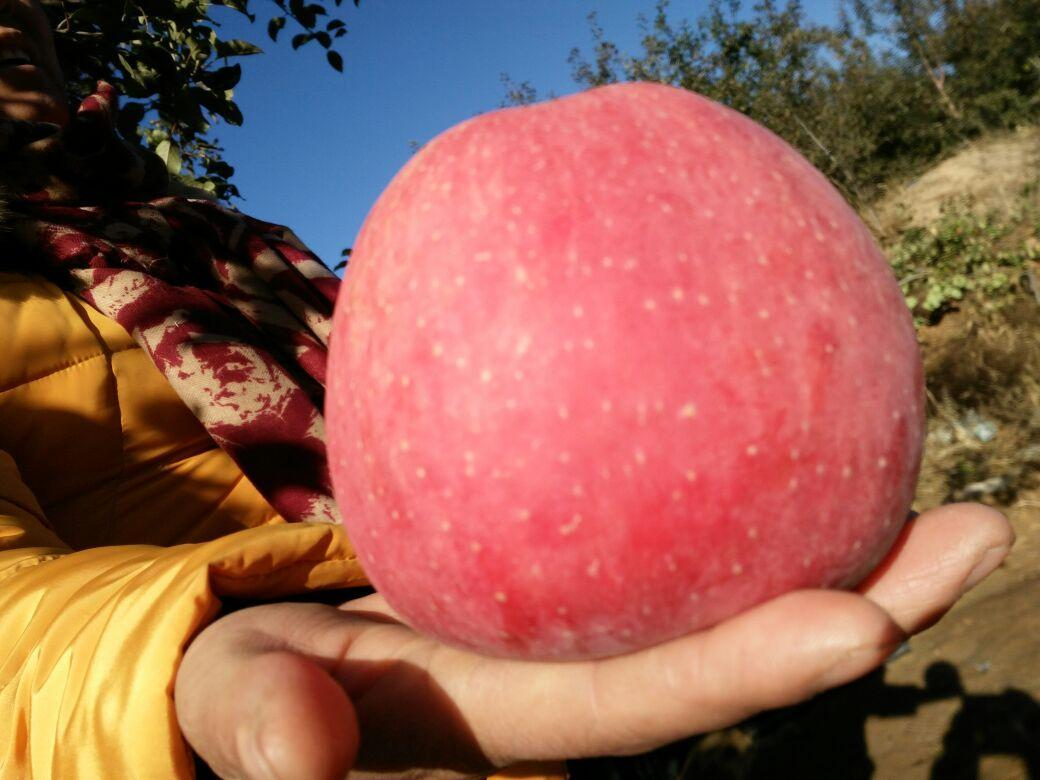apple: (321, 80, 927, 666)
